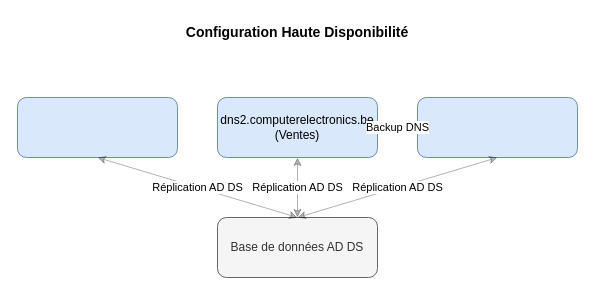
The diagram is 595 pixels wide and 295 high, and some of its shapes have lost their labels. Here are the shapes that lost their labels. From the top down, the centre of each, then its label:
point (97, 127): dns1.computerelectronics.be (Comptabilité + RH)
point (497, 127): dns3.computerelectronics.be (Backup Ventes)
